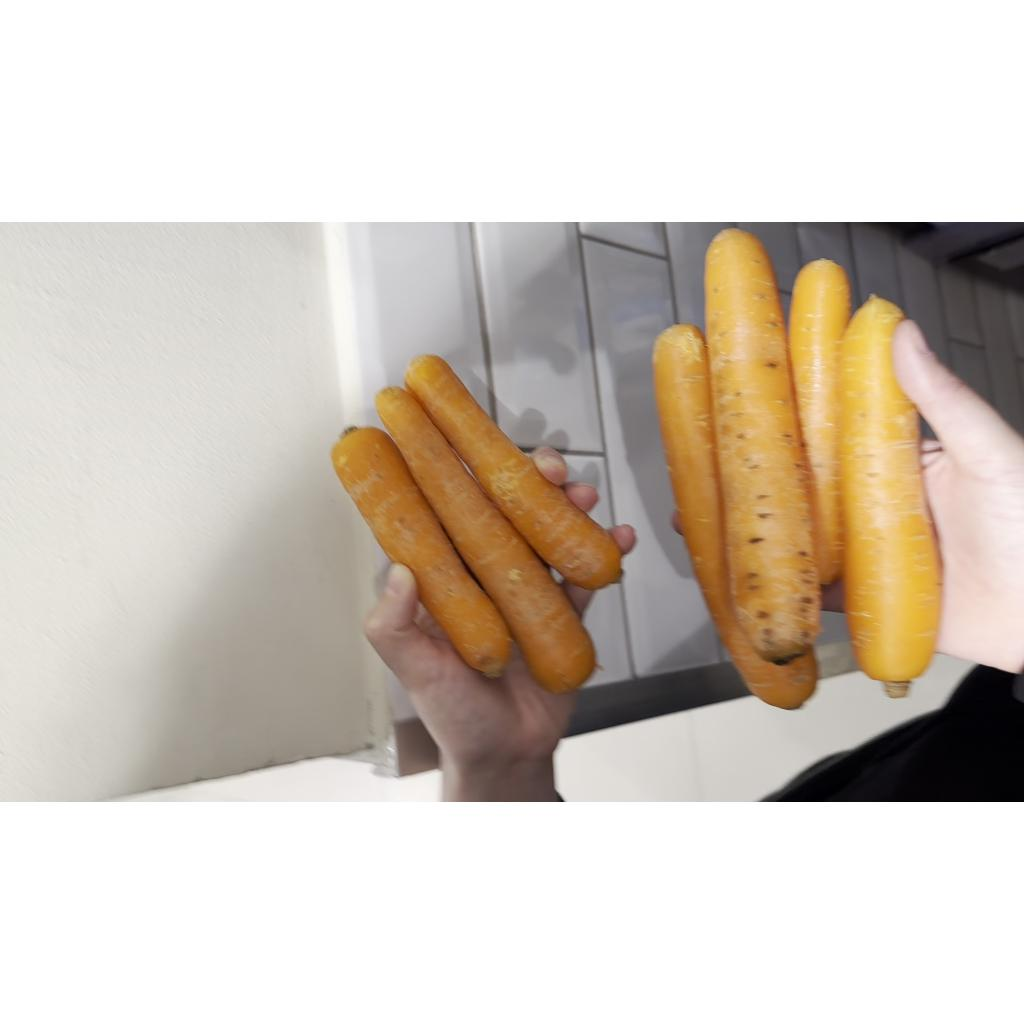carrot: (376, 386, 596, 693), (652, 324, 818, 708), (406, 354, 622, 590), (704, 228, 820, 662), (332, 428, 512, 676), (840, 296, 942, 683), (788, 260, 850, 584)
